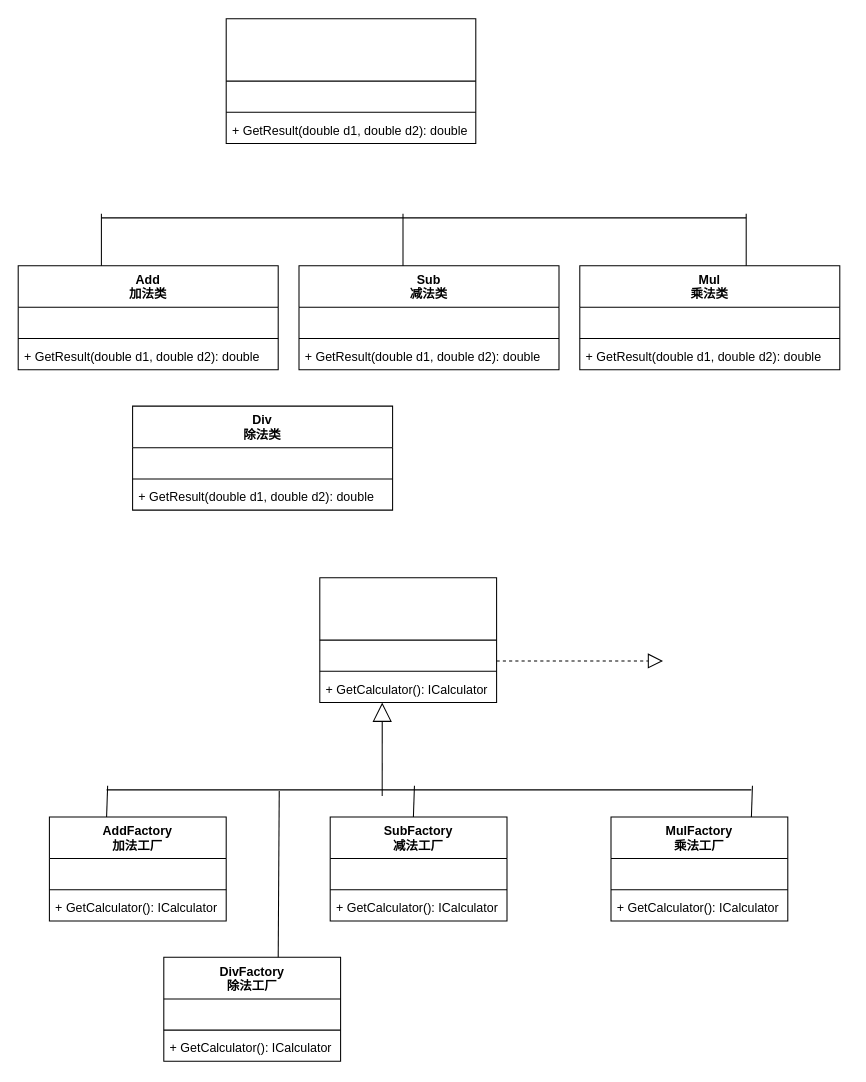
This 866x1082 diagram has some shape labels left out. The shapes that lost their labels are listed below. From the top down, each one's box as (x1, y1, x2, y2) in pixels, then its label:
(225, 18, 476, 144): <<interface>> ICalculator 运算类
(319, 577, 497, 703): <<interface>> ICallFactory 抽象工厂
